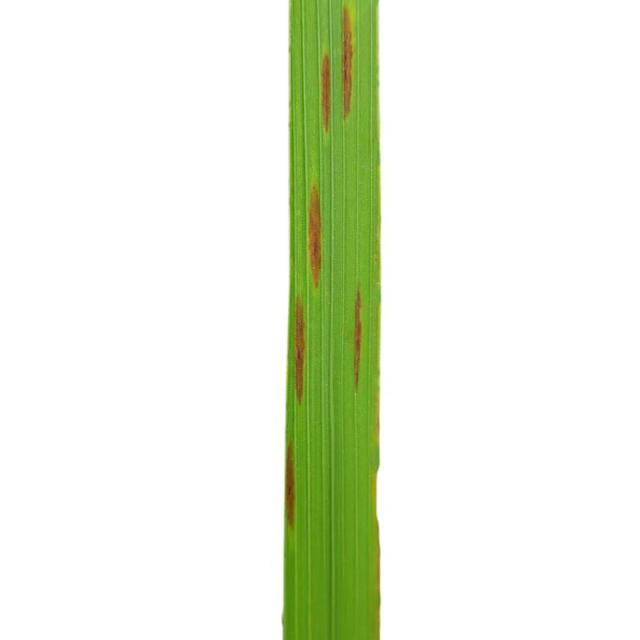Narrow brown: (226, 0, 474, 640)
